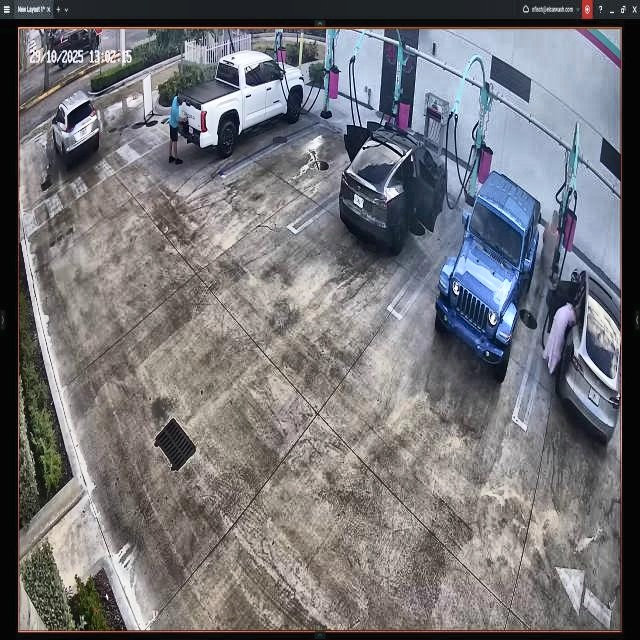Car: (437, 175, 540, 376), (342, 116, 448, 250)
